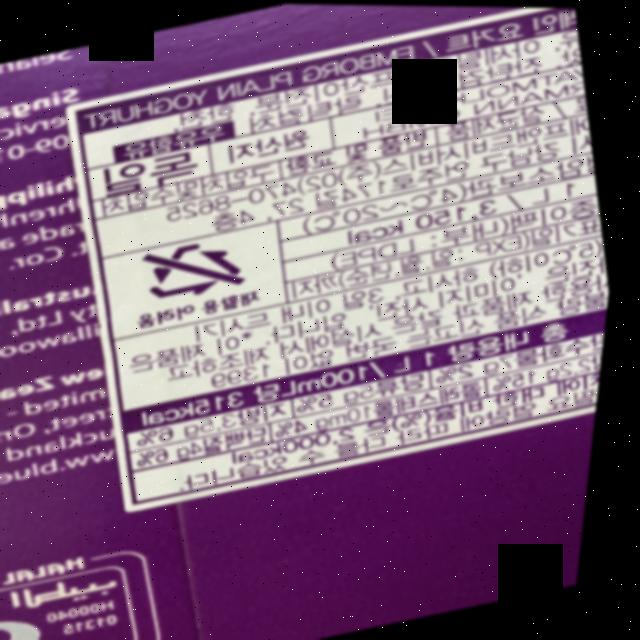NoRecycle: (138, 228, 263, 309)
